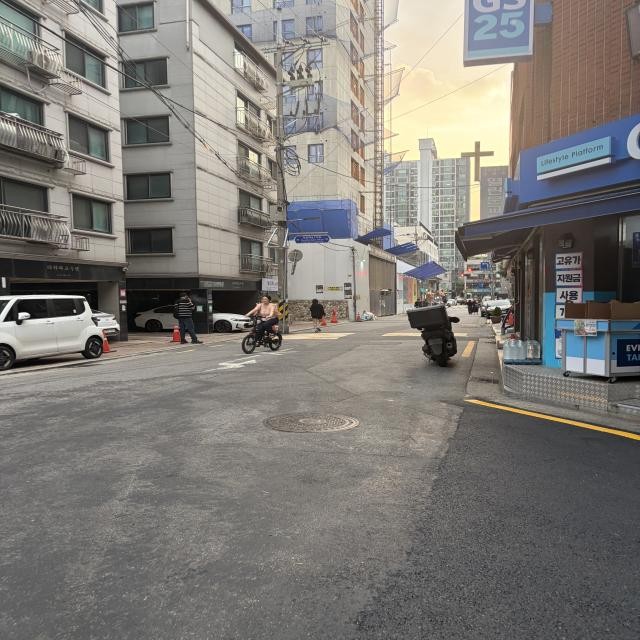bicycle: (236, 287, 296, 363)
car: (0, 287, 117, 381)
motorcycle: (398, 292, 477, 386)
